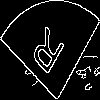R: (25, 25, 67, 85)
